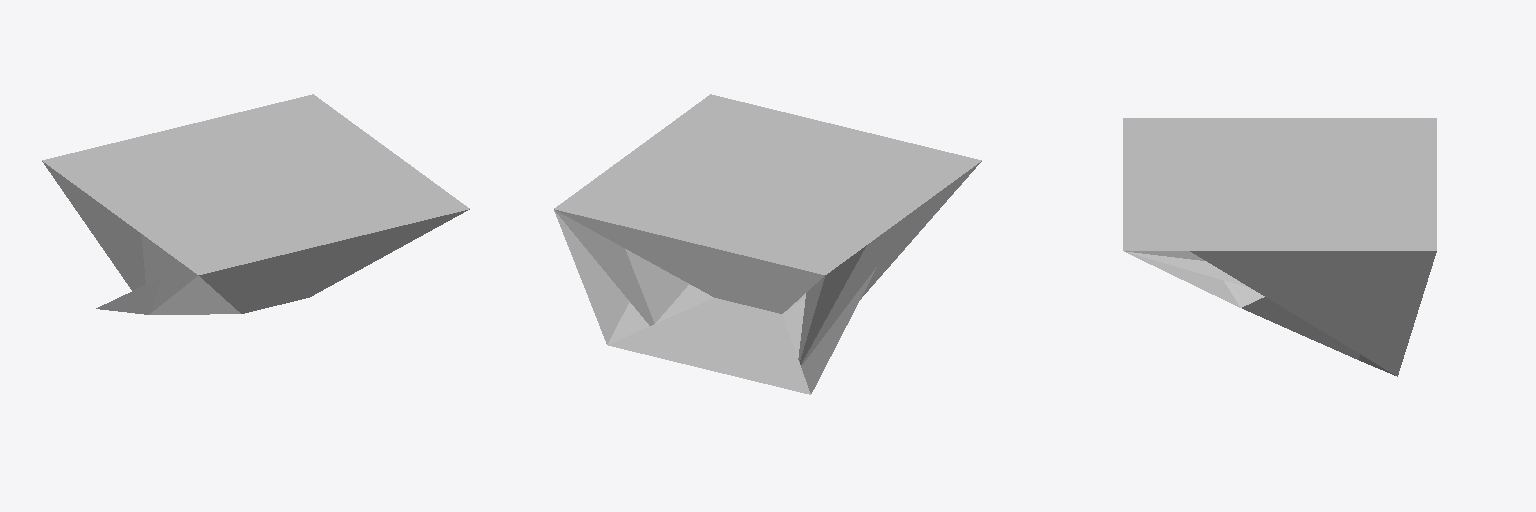
The model's file is Desk Lamp 4.obj.
3 renders of one model, left to right at view 1: azimuth 30°, elevation 25°; view 2: azimuth 150°, elevation 25°; view 3: azimuth 270°, elevation 25°, orthographic.
Bounding box in the file's own units: 8 × 4 × 8.